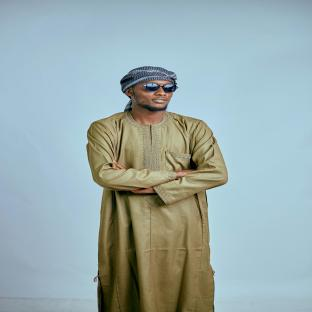Human: (87, 66, 228, 312)
